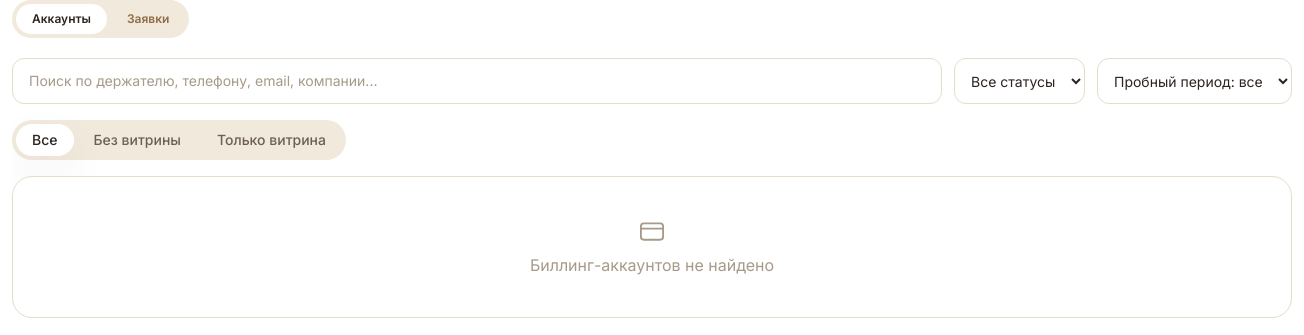
Test: BillingAccountsAdminTab — «Заказы» line (cycle 24) › marks the line of each request in the queue
Click the button "Заявки": (148, 19) [111,4,185,34]
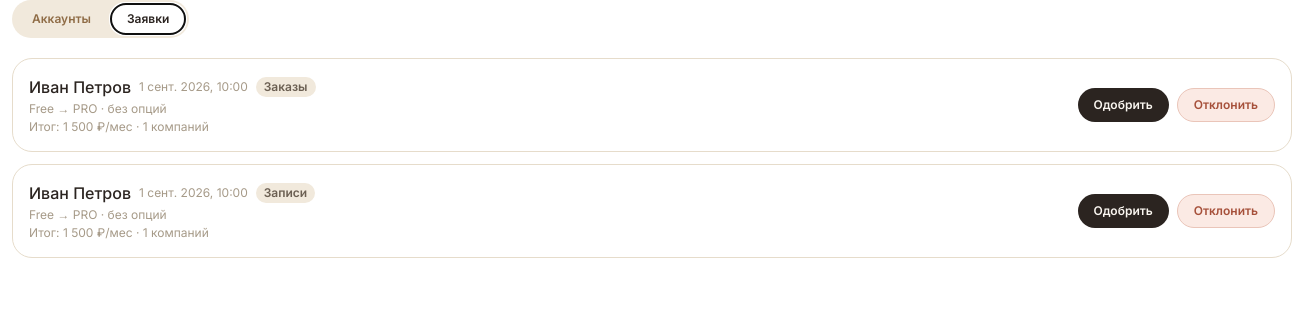
Check: the elements with test id "request-line" read "Заказы", "Записи", in this order, box [256,77,316,97]; [256,183,315,203]
